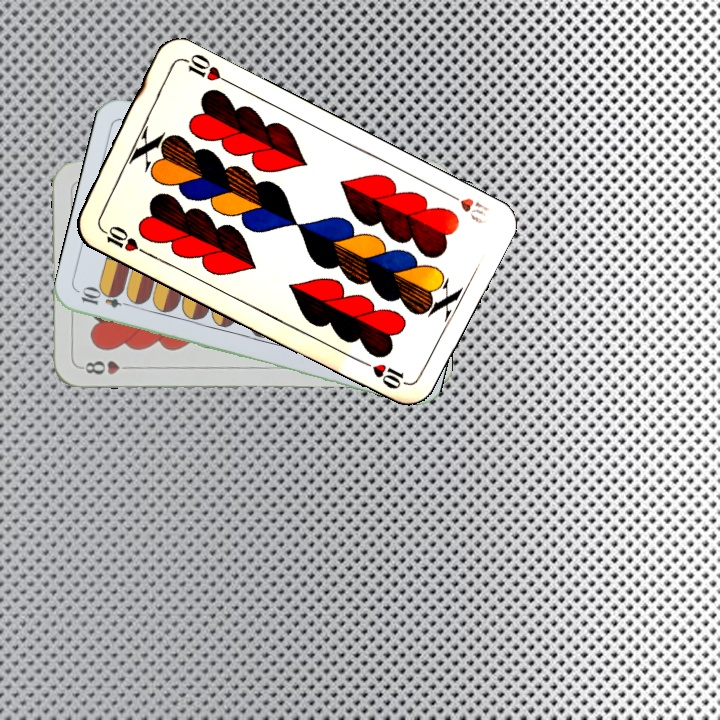E10: (77, 286, 136, 311)
H10: (439, 186, 491, 227), (95, 221, 149, 257)
H8: (77, 357, 136, 378)
